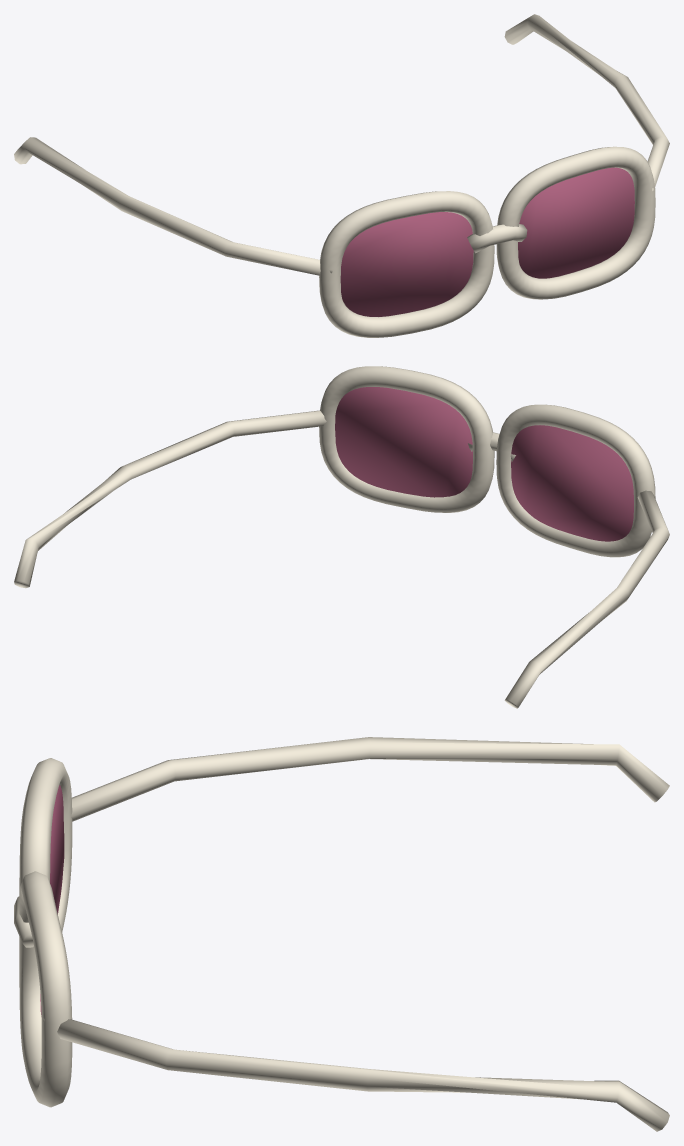
The model's file is 14-white-glam.glb.
3 views of the same model, one above another, from view 1: azimuth 30°, elevation 25°; view 2: azimuth 150°, elevation 25°; view 3: azimuth 270°, elevation 25° (orthographic). The views are drawn at different scales.
Visible parts, largest first — view 1: Glasses14_Lens-12, Glasses14_Lens14, Glasses14_Rim-11, Glasses14_Rim13, Glasses14_Temple-16, Glasses14_Temple18, Glasses14_Bridge5; view 2: Glasses14_Lens14, Glasses14_Lens-12, Glasses14_Rim13, Glasses14_Rim-11, Glasses14_Temple18, Glasses14_Temple-16; view 3: Glasses14_Temple-16, Glasses14_Temple18, Glasses14_Rim13, Glasses14_Rim-11, Glasses14_Lens-12.
Boxes of the visible parts, x1=… form: Glasses14_Lens-12: x1=340, y1=212, x2=473, y2=316; Glasses14_Lens14: x1=518, y1=167, x2=634, y2=278; Glasses14_Rim-11: x1=319, y1=191, x2=494, y2=337; Glasses14_Rim13: x1=496, y1=146, x2=655, y2=299; Glasses14_Temple-16: x1=14, y1=137, x2=320, y2=275; Glasses14_Temple18: x1=504, y1=14, x2=669, y2=186; Glasses14_Bridge5: x1=467, y1=224, x2=527, y2=253; Glasses14_Lens14: x1=335, y1=387, x2=472, y2=497; Glasses14_Lens-12: x1=511, y1=425, x2=633, y2=541; Glasses14_Rim13: x1=319, y1=366, x2=494, y2=512; Glasses14_Rim-11: x1=496, y1=404, x2=655, y2=557; Glasses14_Temple18: x1=14, y1=410, x2=326, y2=588; Glasses14_Temple-16: x1=504, y1=490, x2=669, y2=708; Glasses14_Temple-16: x1=71, y1=737, x2=669, y2=821; Glasses14_Temple18: x1=57, y1=1019, x2=669, y2=1131; Glasses14_Rim13: x1=19, y1=871, x2=72, y2=1107; Glasses14_Rim-11: x1=19, y1=758, x2=72, y2=932; Glasses14_Lens-12: x1=50, y1=785, x2=64, y2=914.
Bounding box in the file's own units: 0.6419 × 0.163 × 0.5141.
